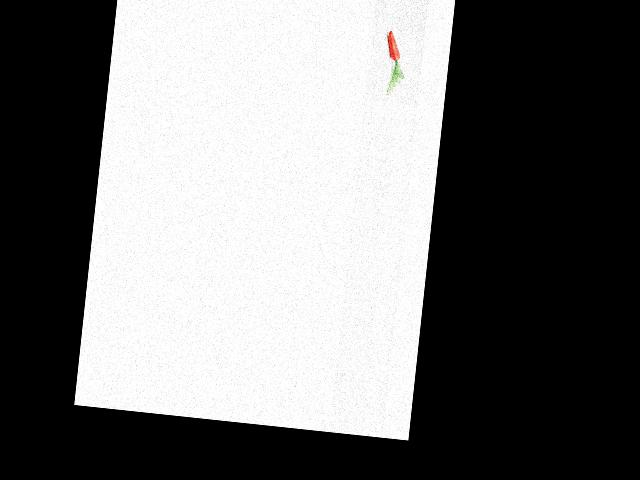carrot: (379, 27, 403, 63)
